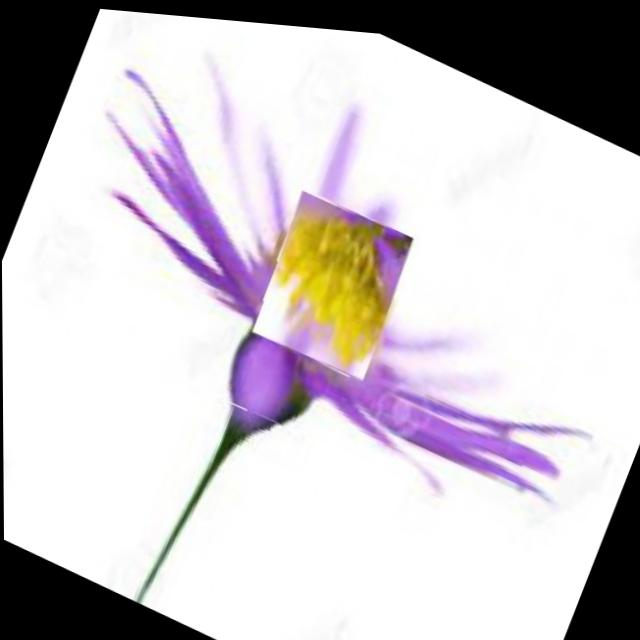Flower: (24, 2, 640, 549), (248, 178, 419, 382)
